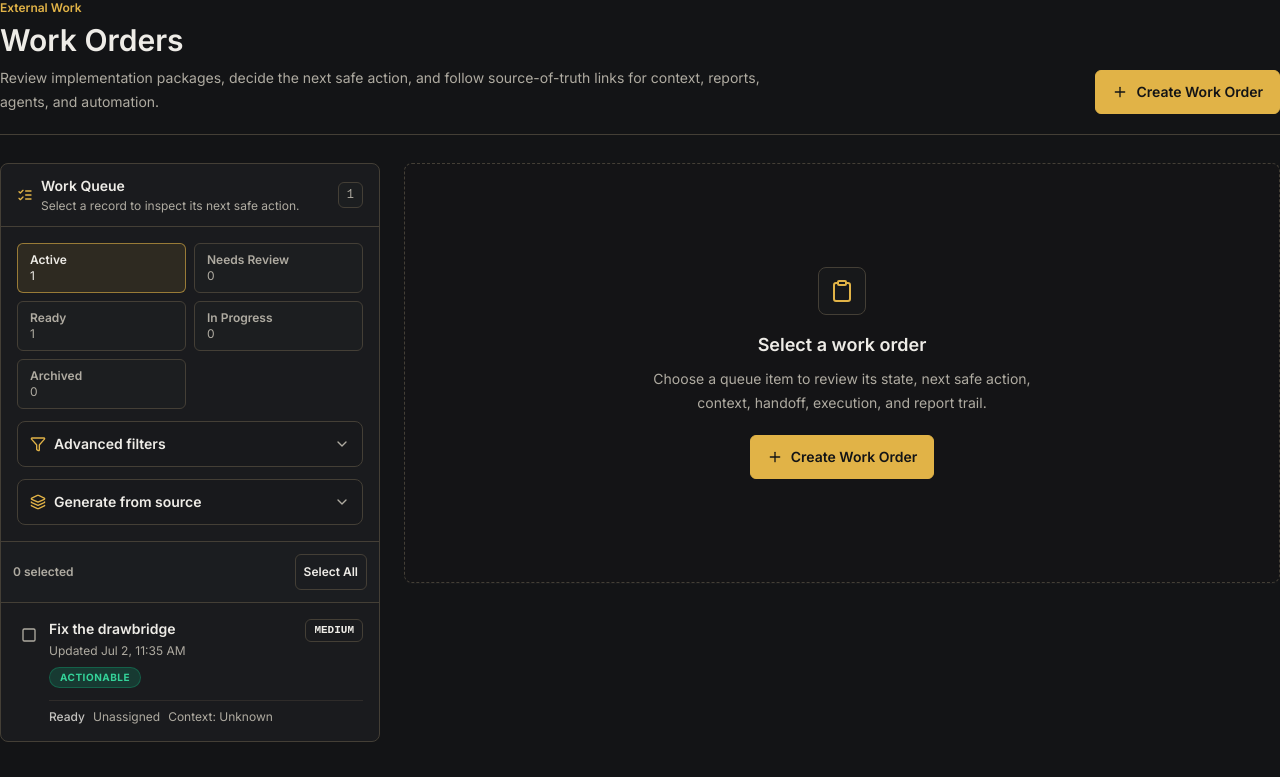
Test: WorkOrdersPage — Project Context (M17E-2) › shows the Project Context panel with binding details for a FRESH binding
Click the heading "Fix the drawbridge".
click(117, 629)  # box [49,619,186,639]
(page scrolled)
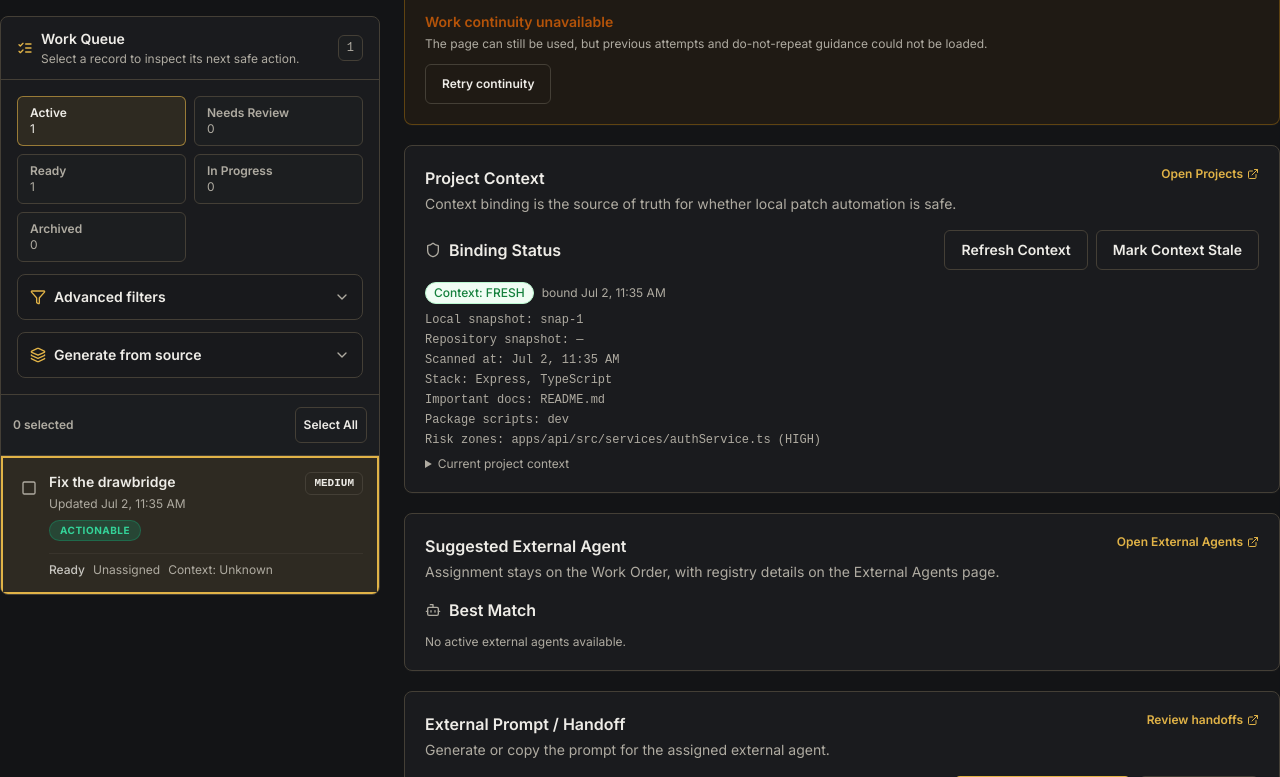
Expected: the heading "Project Context" is shown, [425,168,545,188]
Expected: the text "Local snapshot: snap-1" is shown, [425,313,583,327]
Expected: the text "Stack: Express, TypeScript" is shown, [425,373,612,387]
